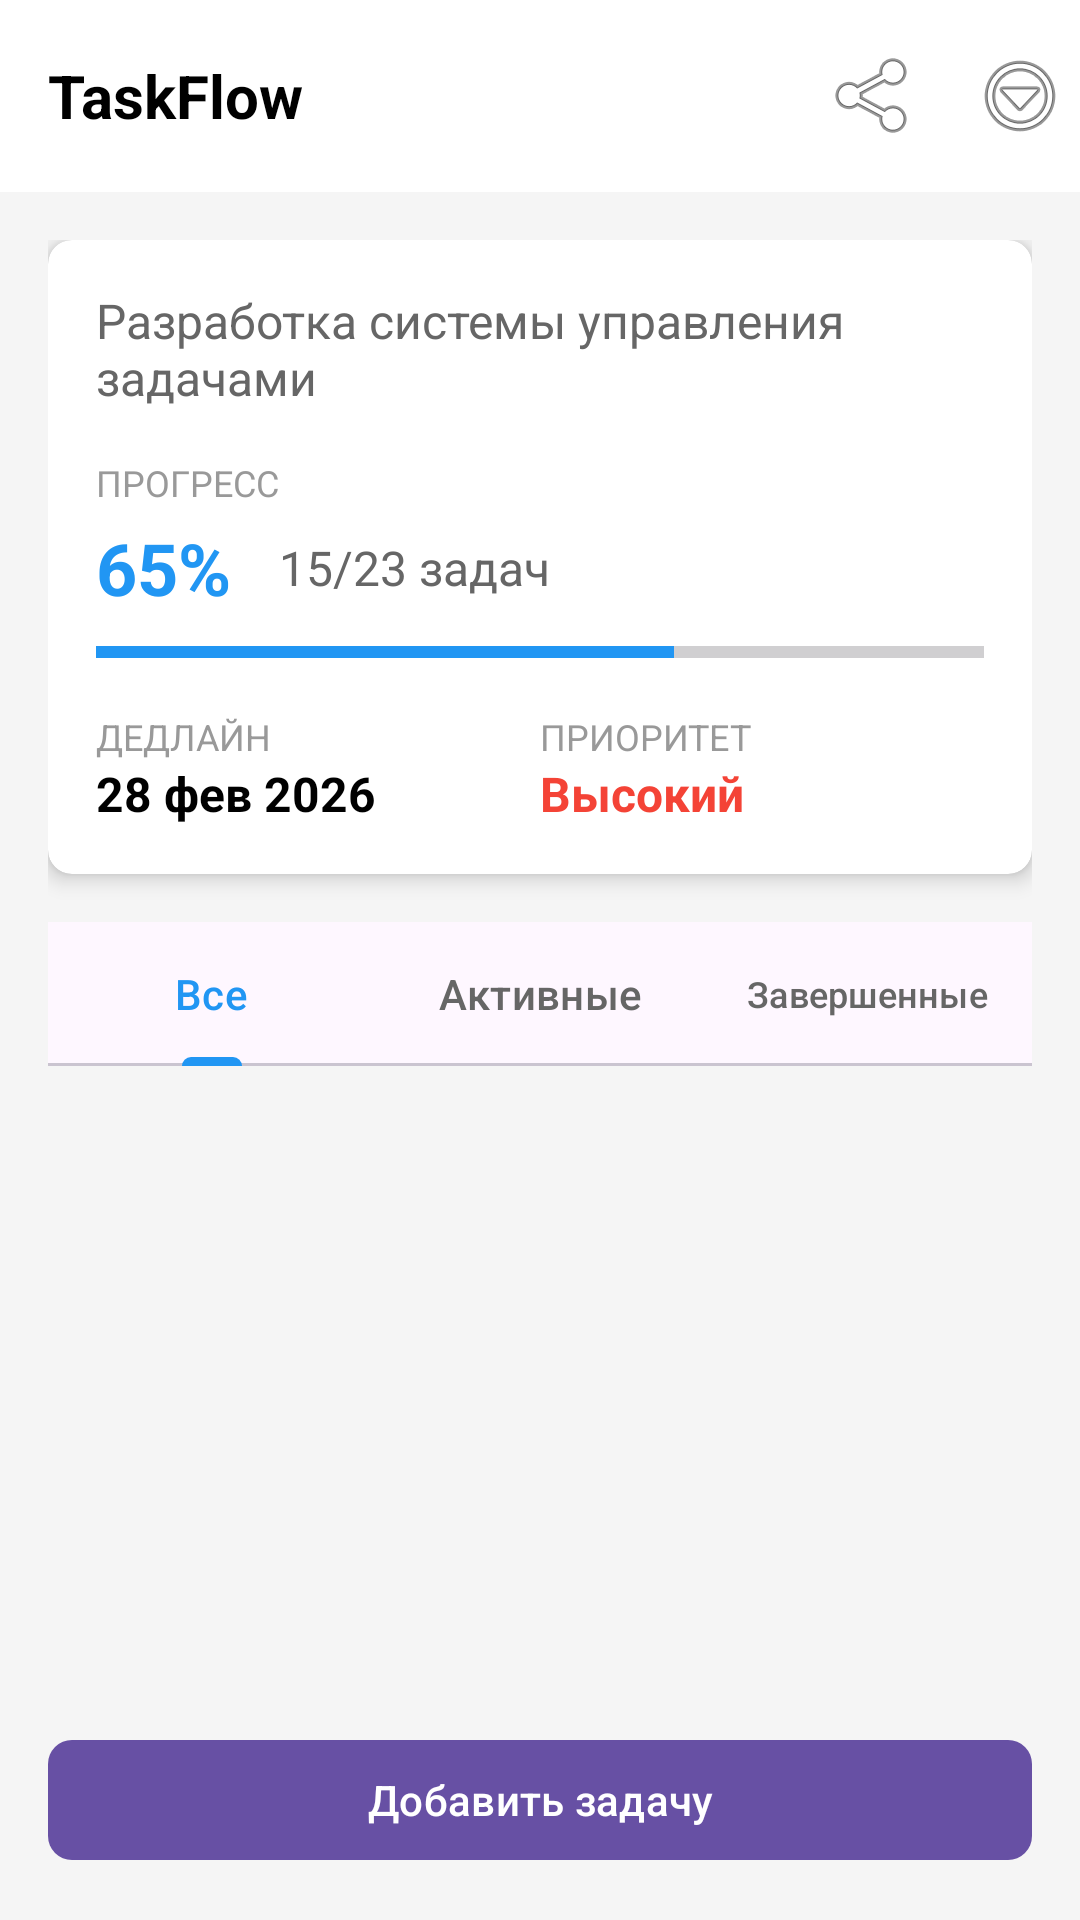

Where to tap for icons on this 1080×1920 app screen, as (x,y):
share: (871,95)
